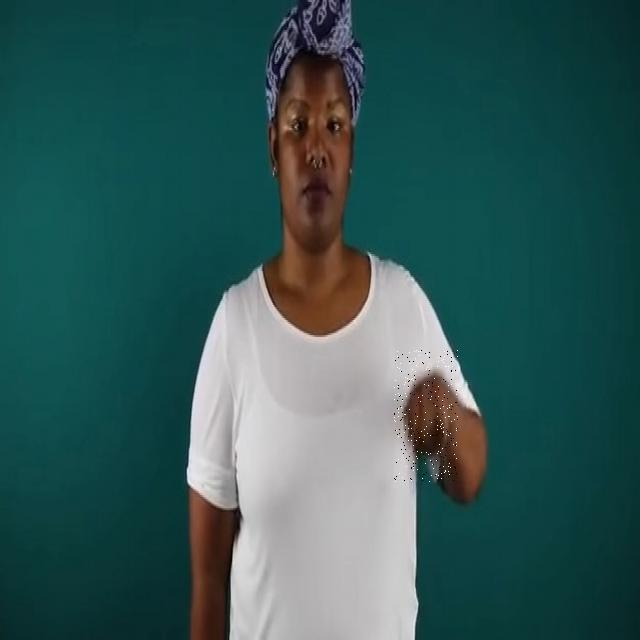bag: (394, 350, 458, 482)
